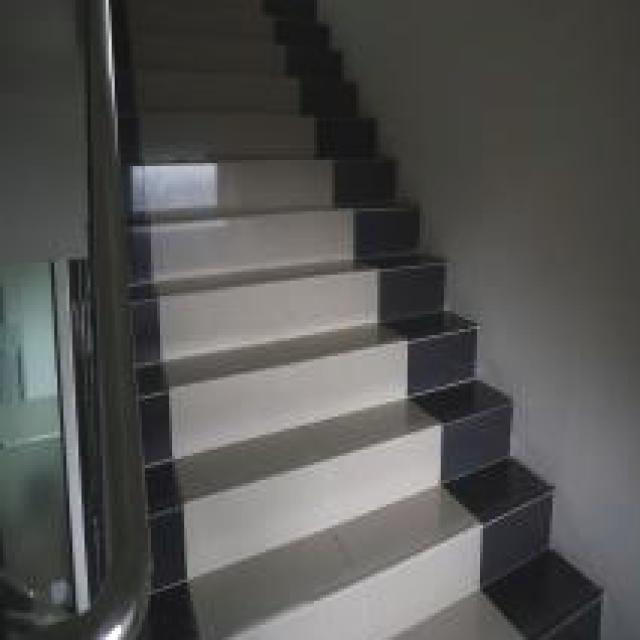upstair: (149, 116, 421, 526)
